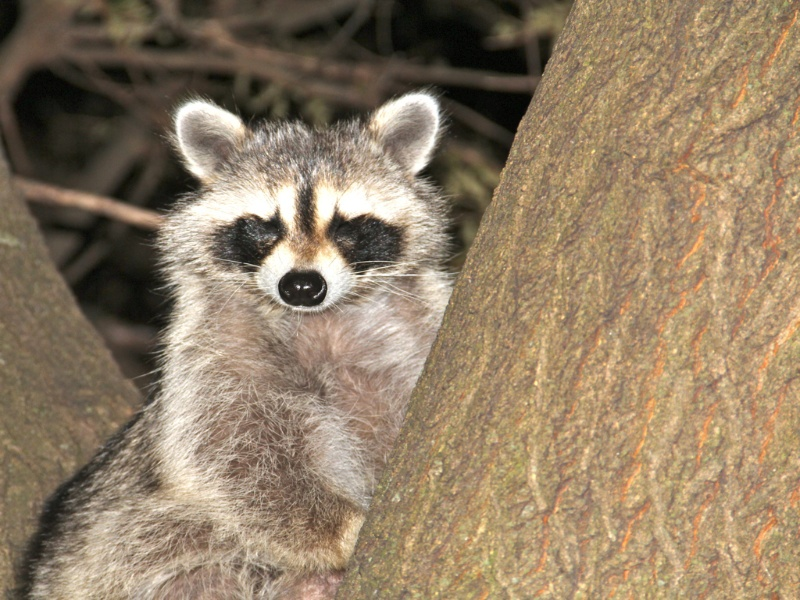raccoon: (22, 84, 460, 596)
